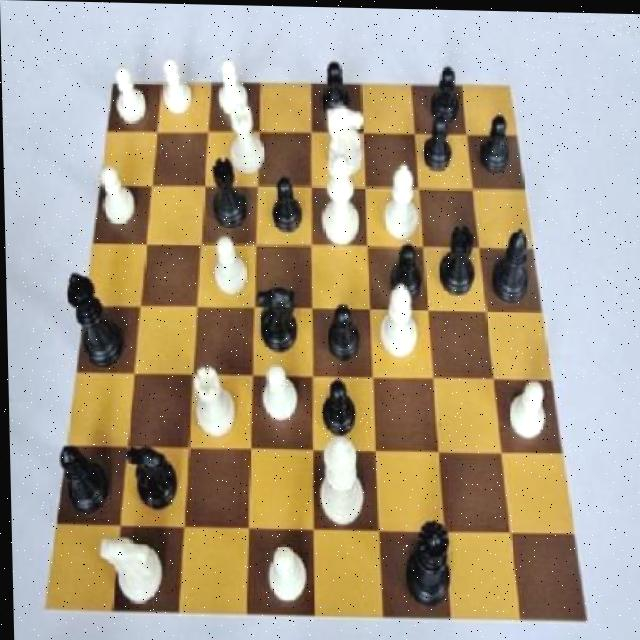bishop: (56, 438, 113, 527), (485, 222, 538, 314)
black-bishop: (60, 266, 127, 372)
black-king: (120, 435, 179, 517), (250, 277, 305, 362)
black-knight: (263, 169, 312, 241), (384, 233, 428, 311), (317, 299, 366, 368), (314, 44, 353, 129), (424, 58, 468, 133), (316, 373, 362, 444), (474, 101, 514, 177), (415, 109, 457, 177)
black-pawn: (395, 511, 456, 610)
black-queen: (204, 151, 253, 235), (434, 209, 477, 304)
black-rook: (374, 274, 422, 363), (378, 157, 422, 247)
white-bishop: (310, 424, 364, 528)
white-king: (94, 524, 168, 618), (322, 96, 371, 183)
white-knight: (253, 348, 306, 436), (262, 535, 310, 612), (152, 49, 197, 129), (503, 370, 551, 441), (210, 51, 255, 125), (209, 226, 254, 300), (92, 165, 142, 231), (106, 60, 151, 130)
white-pawn: (316, 146, 365, 248)
white-queen: (222, 97, 274, 179), (188, 365, 239, 443)
